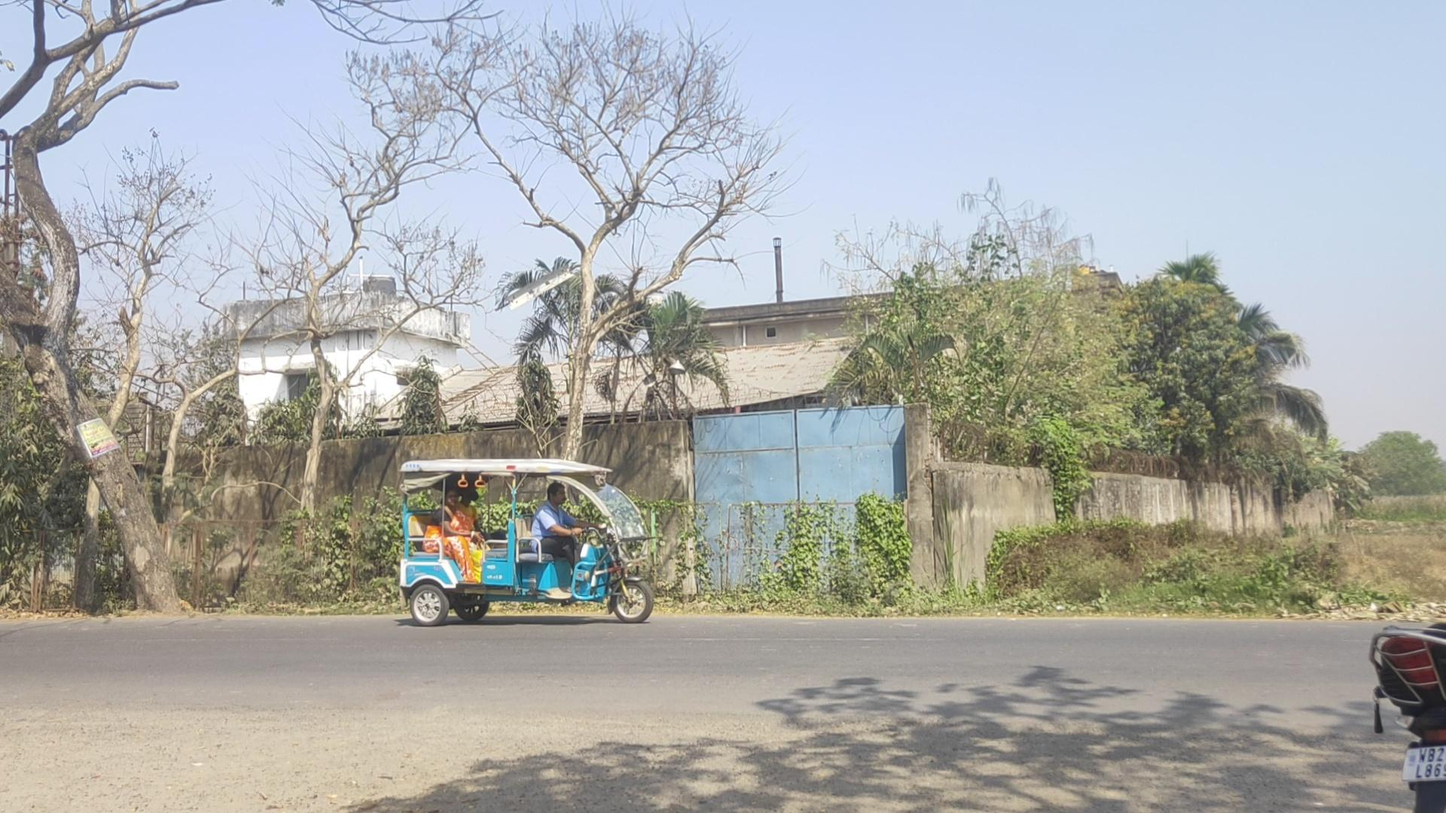Auto: (399, 458, 656, 627)
